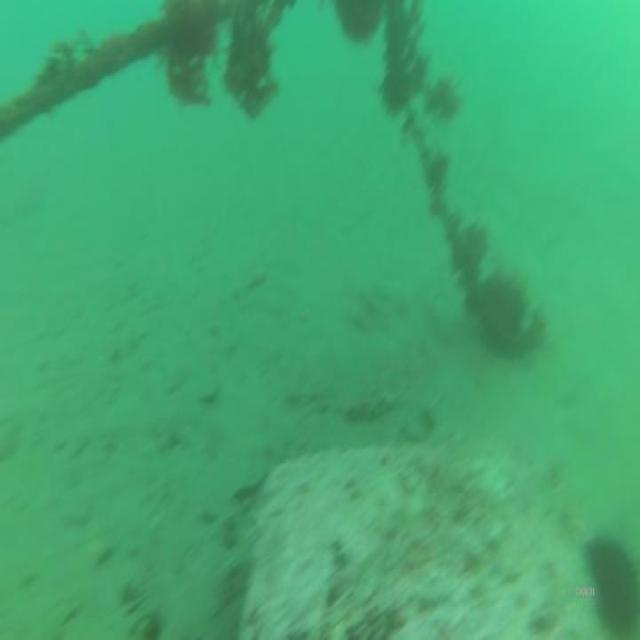echinus: (580, 530, 640, 630)
